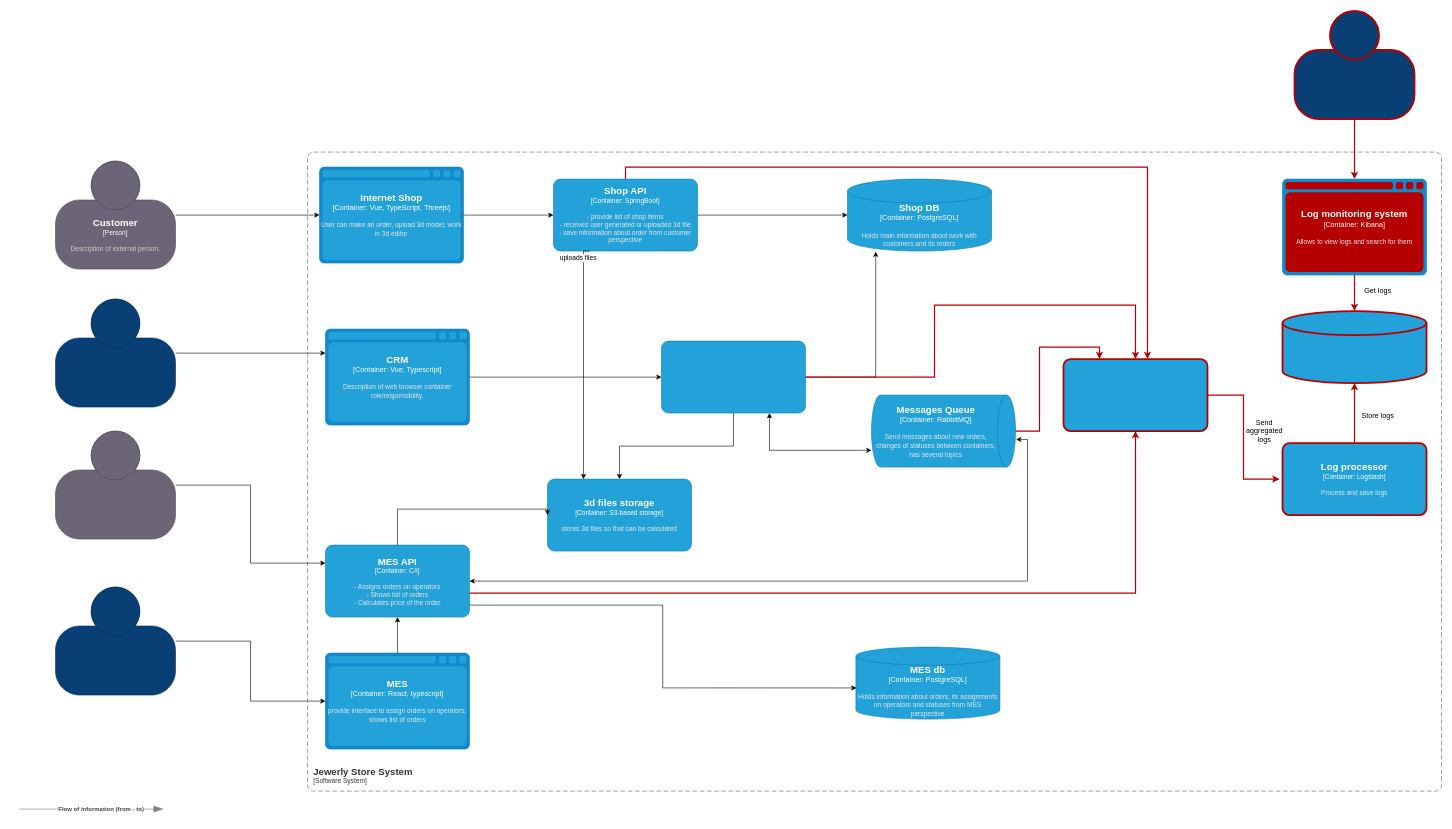
This 1452x829 diagram has some shape labels left out. Each missing label, with the centre of its shape:
API user [Person] Description of external person.: (115,484)
CRM API [Container: SpringBoot] Description of container role/responsibility.: (733,376)
Log aggregator [Container: Filebeat] Get and aggregate logs: (1135,395)
Logs DB [Container: Elasticsearch] Store services logs: (1354,347)
Operator [Person] Takes order in work, manufactures jewerly: (115,640)
Seller [Person] Operates with order, confirms manufacturing for the user: (115,352)
Support Specialist [Person]: (1354,65)
